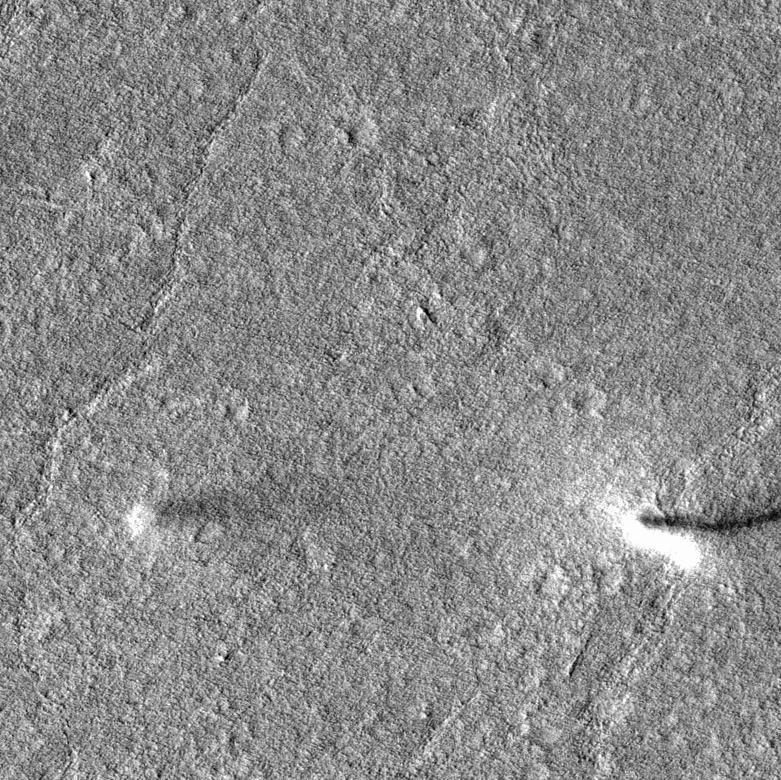dust_devil: (618, 495, 781, 574), (122, 490, 254, 544)
